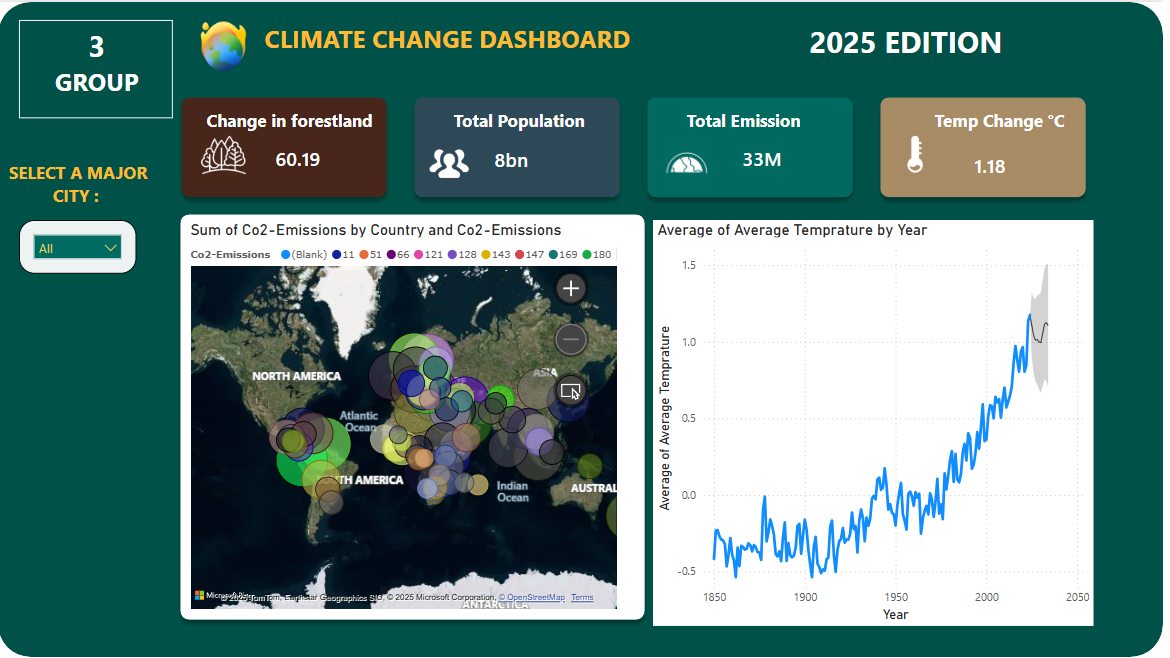

The dashboard page shown, as its layout file describes it:
{"tool":"powerbi","page":{"name":"Overview","canvas":[1280,720],"ordinal":0},"visuals":[{"type":"shape","box":[0,0,1280,719.7],"z":0},{"type":"textbox","box":[288,16,544,96],"z":1000},{"type":"image","box":[208,16,80,64],"z":2000},{"type":"slicer","fields":{"Values":["world-data-2023.Largest city"]},"box":[22.8,239,129.4,59.4],"z":4000},{"type":"textbox","box":[0,168.7,175.7,70.9],"z":5000},{"type":"shape","box":[192,96,244,128],"z":6000},{"type":"shape","box":[960,96,244,128],"z":7000},{"type":"shape","box":[704,96,244,128],"z":8000},{"type":"shape","box":[448,96,244,128],"z":9000},{"type":"image","box":[208,112,80,112],"z":10000},{"type":"cardVisual","fields":{"Data":["climate_trends emily.Average Temprature"]},"box":[1055.9,134.6,127.6,80.8],"z":11000},{"type":"textbox","box":[224,112,240,64],"z":12000},{"type":"textbox","box":[752,112,176,64],"z":13000},{"type":"textbox","box":[1024,112,224,64],"z":14000},{"type":"image","box":[725.3,128,64,96],"z":15000},{"type":"image","box":[976,128,64,80],"z":16000},{"type":"cardVisual","fields":{"Data":["world-data-2023.Co2-Emissions"]},"box":[800.8,127.6,127.6,80.8],"z":17000},{"type":"shape","box":[191.2,224.1,528.5,463.7],"z":18000},{"type":"cardVisual","fields":{"Data":["world-data-2023.Population"]},"box":[528,112,128,112],"z":19000},{"type":"textbox","box":[496,112,160,64],"z":20000},{"type":"map","title":"Sum of Co2-Emissions by Country and Co2-Emissions","fields":{"Y":["world-data-2023.Latitude"],"X":["world-data-2023.Longitude"],"Size":["world-data-2023.Co2-Emissions"],"Series":["world-data-2023.Co2-Emissions"],"Category":["world-data-2023.Country"]},"box":[206.6,239.5,477.9,431.8],"z":21000},{"type":"image","box":[464,144,64,64],"z":22000},{"type":"cardVisual","fields":{"Data":["world-data-2023.Forested Area (%)"]},"box":[287.7,127.6,129,80.8],"z":23000},{"type":"lineChart","fields":{"Category":["climate_trends emily.Year"],"Y":["climate_trends emily.Average Temprature"]},"box":[720,239,484.1,446],"z":24000},{"type":"textbox","box":[22.8,19.8,169,108.1],"z":24002},{"type":"textbox","box":[826.6,16.7,342.5,79.2],"z":24003}]}

Visuals, with their boxes in screenshot pixels (x1, y1, x2, y2), scaled from the page's 1280x720 canvas onto the 1170x658 screenshot:
shape: Rect(0, 0, 1169, 657)
textbox: Rect(263, 15, 760, 102)
image: Rect(190, 15, 263, 73)
slicer - world-data-2023.Largest city: Rect(21, 218, 139, 273)
textbox: Rect(0, 154, 161, 219)
shape: Rect(176, 88, 399, 205)
shape: Rect(878, 88, 1101, 205)
shape: Rect(644, 88, 867, 205)
shape: Rect(410, 88, 633, 205)
image: Rect(190, 102, 263, 205)
cardVisual - climate_trends emily.Average Temprature: Rect(965, 123, 1082, 197)
textbox: Rect(205, 102, 424, 161)
textbox: Rect(687, 102, 848, 161)
textbox: Rect(936, 102, 1141, 161)
image: Rect(663, 117, 721, 205)
image: Rect(892, 117, 951, 190)
cardVisual - world-data-2023.Co2-Emissions: Rect(732, 117, 849, 190)
shape: Rect(175, 205, 658, 629)
cardVisual - world-data-2023.Population: Rect(483, 102, 600, 205)
textbox: Rect(453, 102, 600, 161)
"Sum of Co2-Emissions by Country and Co2-Emissions" map: Rect(189, 219, 626, 613)
image: Rect(424, 132, 483, 190)
cardVisual - world-data-2023.Forested Area (%): Rect(263, 117, 381, 190)
lineChart - climate_trends emily.Year x climate_trends emily.Average Temprature: Rect(658, 218, 1101, 626)
textbox: Rect(21, 18, 175, 117)
textbox: Rect(756, 15, 1069, 88)
